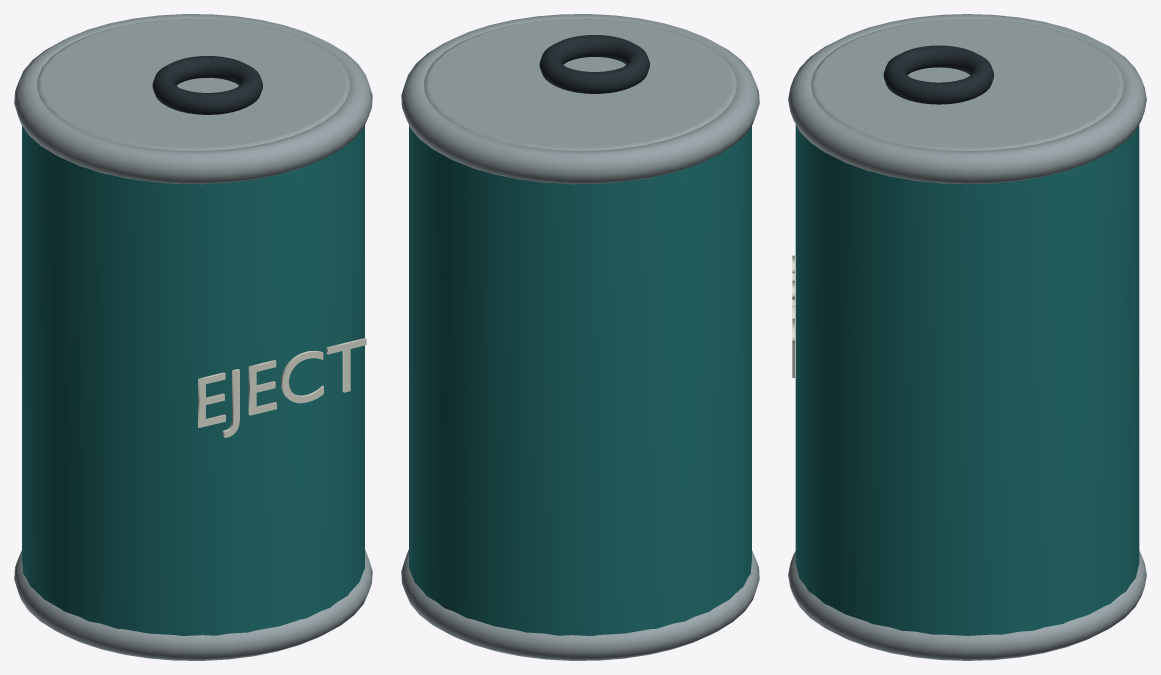
Rendered from item_drink.glb.
3 renders of one model, left to right at view 1: azimuth 30°, elevation 25°; view 2: azimuth 150°, elevation 25°; view 3: azimuth 270°, elevation 25°, orthographic.
Visible parts, largest first — view 1: Can_body, Can_lid, Can_seam.001, Can_seam, Pull_tab, Can_label; view 2: Can_body, Can_lid, Can_seam.001, Can_seam, Pull_tab; view 3: Can_body, Can_lid, Can_seam.001, Can_seam, Pull_tab.
Part boxes in pixels (x1,y1,x2,y2): Can_body: (22, 125, 364, 635); Can_lid: (37, 19, 349, 150); Can_seam.001: (14, 14, 372, 184); Can_seam: (14, 550, 372, 660); Pull_tab: (152, 56, 262, 114); Can_label: (198, 338, 366, 437); Can_body: (409, 125, 751, 635); Can_lid: (424, 19, 736, 150); Can_seam.001: (401, 14, 759, 184); Can_seam: (401, 550, 759, 660); Pull_tab: (539, 35, 649, 93); Can_body: (795, 124, 1139, 635); Can_lid: (811, 19, 1123, 150); Can_seam.001: (788, 14, 1146, 184); Can_seam: (788, 551, 1146, 660); Pull_tab: (883, 45, 994, 104).
Size of the model in its own units: 0.188 by 0.3037 by 0.188.
